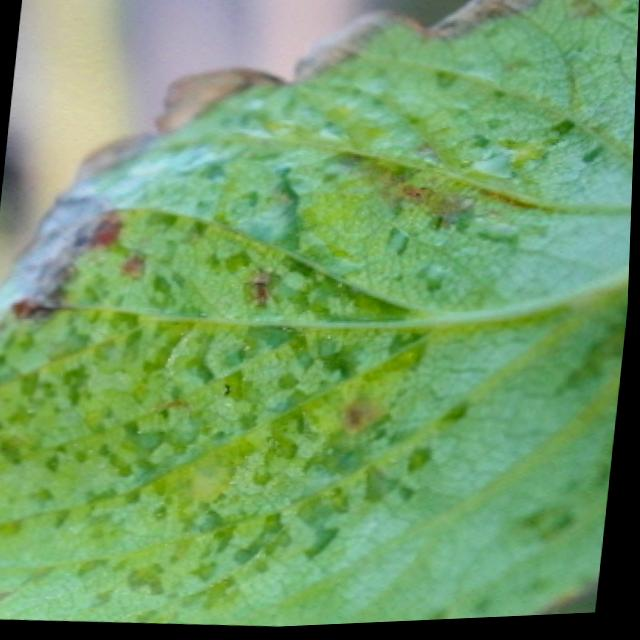Angular Leafspot: (0, 0, 639, 629)
